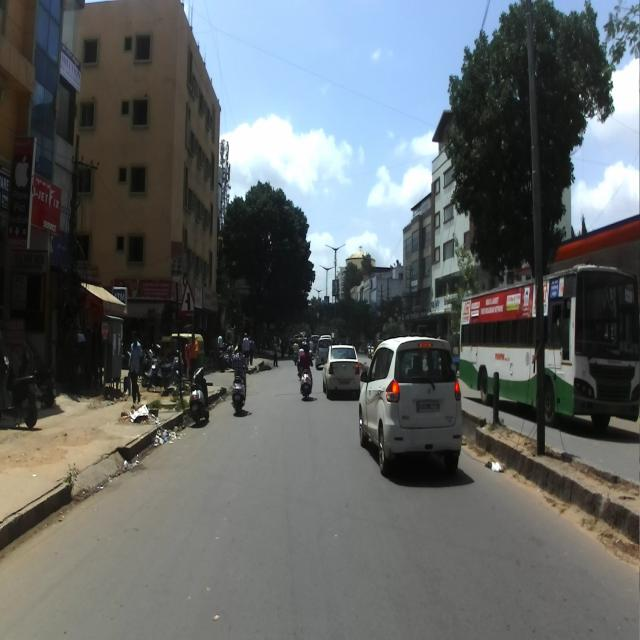bus: (459, 263, 640, 433)
car: (357, 334, 463, 477), (321, 341, 361, 396)
motorcycle: (0, 352, 42, 430)
scooter: (188, 368, 210, 423), (298, 366, 312, 399)
